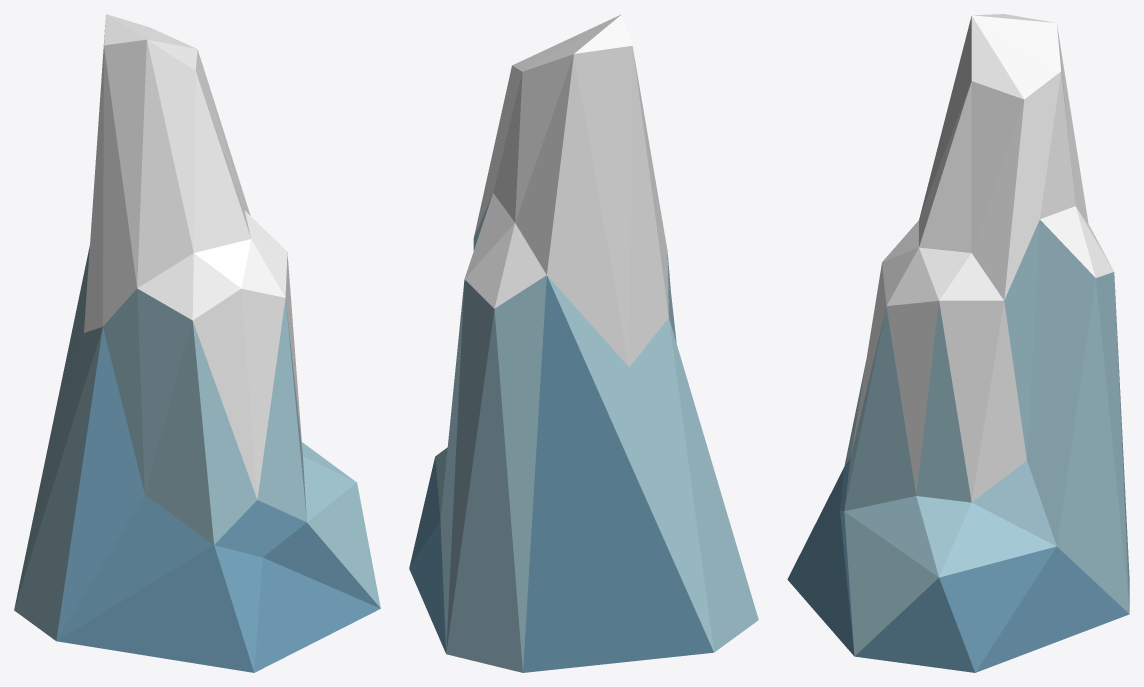
Rendered from terrainStonePillarSmall1.fbx.
3 views of the same model, side by side, from view 1: azimuth 30°, elevation 25°; view 2: azimuth 150°, elevation 25°; view 3: azimuth 270°, elevation 25° (orthographic). The views are drawn at different scales.
Visible parts, largest first — view 1: pillar; view 2: pillar; view 3: pillar.
Boxes of the visible parts, left/top/right/bottom form: pillar: left=14, top=14, right=380, bottom=672; pillar: left=409, top=14, right=758, bottom=672; pillar: left=787, top=14, right=1129, bottom=672.
Size of the model in its own units: 417 by 736 by 406.
Materials: 1 (1 with a texture image).
